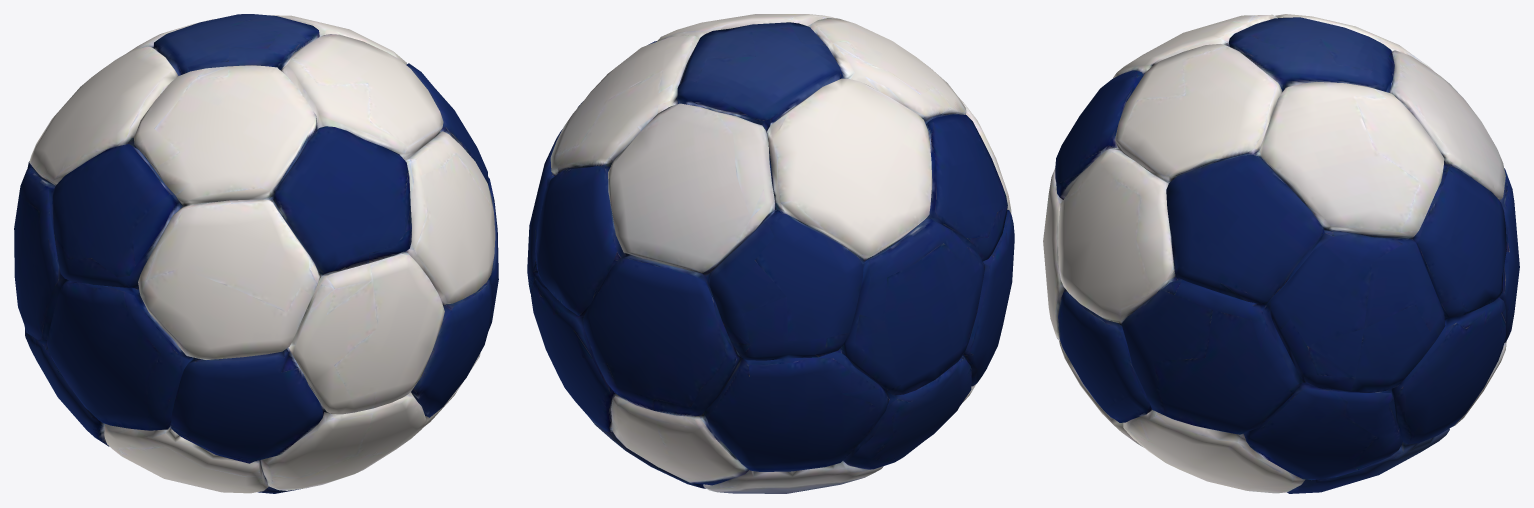
File: football.d9590d2f.glb
3 views of the same model, side by side, from view 1: azimuth 30°, elevation 25°; view 2: azimuth 150°, elevation 25°; view 3: azimuth 270°, elevation 25° (orthographic).
Visible parts, largest first — view 1: tripo_node_ecf4b137-07ca-4d82-88b3-d71fe1c19dd6; view 2: tripo_node_ecf4b137-07ca-4d82-88b3-d71fe1c19dd6; view 3: tripo_node_ecf4b137-07ca-4d82-88b3-d71fe1c19dd6.
Boxes of the visible parts, box(x1,y1,x2,y2) form: tripo_node_ecf4b137-07ca-4d82-88b3-d71fe1c19dd6: box(14, 14, 498, 493); tripo_node_ecf4b137-07ca-4d82-88b3-d71fe1c19dd6: box(527, 14, 1014, 493); tripo_node_ecf4b137-07ca-4d82-88b3-d71fe1c19dd6: box(1043, 14, 1519, 493).
Size of the model in its own units: 0.998 by 0.998 by 0.998.
1 material, 1 textured.
